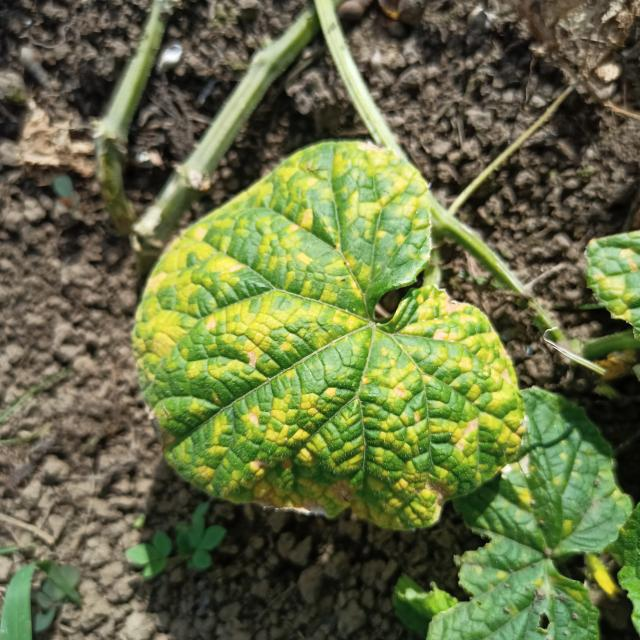disease_cucumber: (136, 142, 522, 515)
